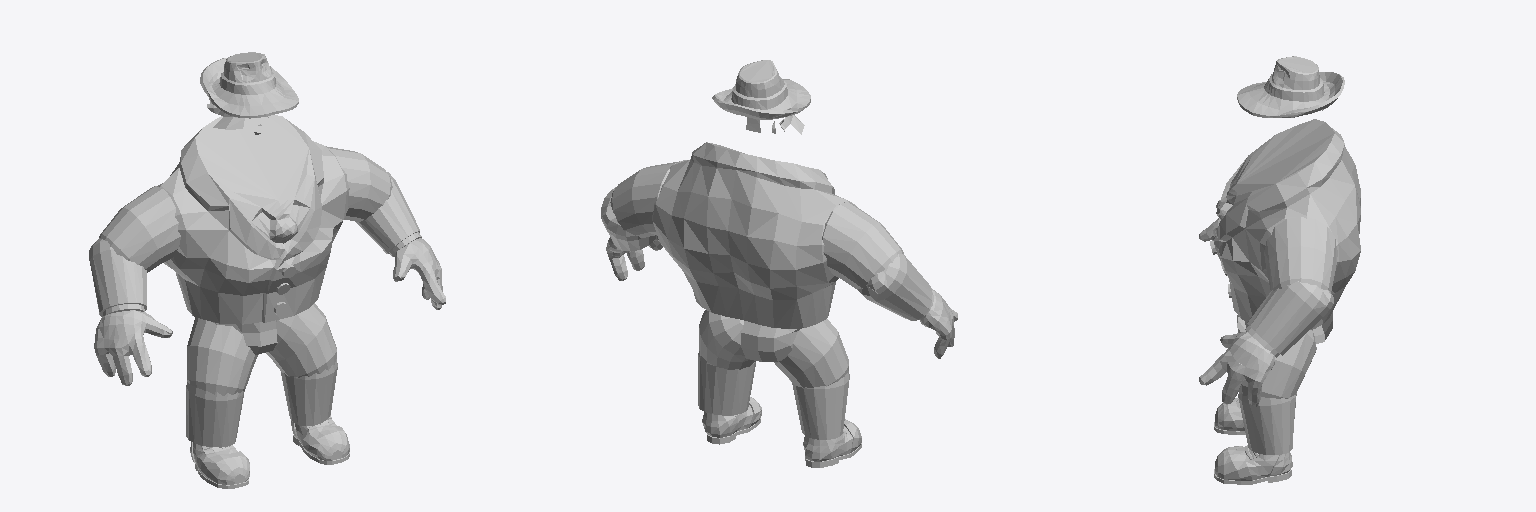
The picture shows the model from 3 angles: view 1: azimuth 30°, elevation 25°; view 2: azimuth 150°, elevation 25°; view 3: azimuth 270°, elevation 25°; orthographic projection.
Visible parts, largest first — view 1: coat, shirt, uparmR, uplegR, hat, handR, uplegL, lowlegR, lowarmR, uparmL, lowlegL, lowarmL (+6 smaller); view 2: coat, uparmR, uplegR, hat, lowarmR, uparmL, lowlegR, lowlegL, uplegL, pelvis, handR, lowarmL (+4 smaller); view 3: coat, uparmL, shirt, lowarmL, hat, handL, lowlegL, uplegL, shoe1L, band, shoe1R, shoe2L.
Boxes of the visible parts, box(x1,y1,x2,y2) form: coat: box(157, 119, 349, 324); shirt: box(195, 115, 314, 238); uparmR: box(99, 186, 180, 272); uplegR: box(187, 317, 258, 395); hat: box(200, 52, 298, 118); handR: box(94, 310, 172, 385); uplegL: box(266, 303, 336, 377); lowlegR: box(186, 382, 244, 447); lowarmR: box(89, 238, 146, 316); uparmL: box(326, 146, 392, 221); lowlegL: box(281, 359, 337, 425); lowarmL: box(356, 172, 419, 253); coat: box(652, 142, 855, 328); uparmR: box(822, 201, 903, 289); uplegR: box(774, 319, 848, 387); hat: box(712, 60, 810, 119); lowarmR: box(858, 254, 932, 320); uparmL: box(610, 161, 680, 237); lowlegR: box(792, 371, 849, 439); lowlegL: box(698, 351, 755, 415); uplegL: box(699, 310, 755, 369); pelvis: box(741, 321, 799, 361); handR: box(920, 288, 957, 358); lowarmL: box(601, 187, 656, 251); coat: box(1213, 128, 1360, 329); uparmL: box(1264, 217, 1337, 291); shirt: box(1226, 119, 1334, 213); lowarmL: box(1247, 281, 1333, 355); hat: box(1237, 56, 1344, 117); handL: box(1199, 332, 1274, 406); lowlegL: box(1238, 393, 1296, 454); uplegL: box(1239, 325, 1316, 398); shoe1L: box(1215, 446, 1292, 480); band: box(1264, 74, 1324, 101); shoe1R: box(1215, 398, 1244, 430); shoe2L: box(1236, 447, 1278, 480).
Bounding box in the file's own units: 5.42 × 5.89 × 2.22.